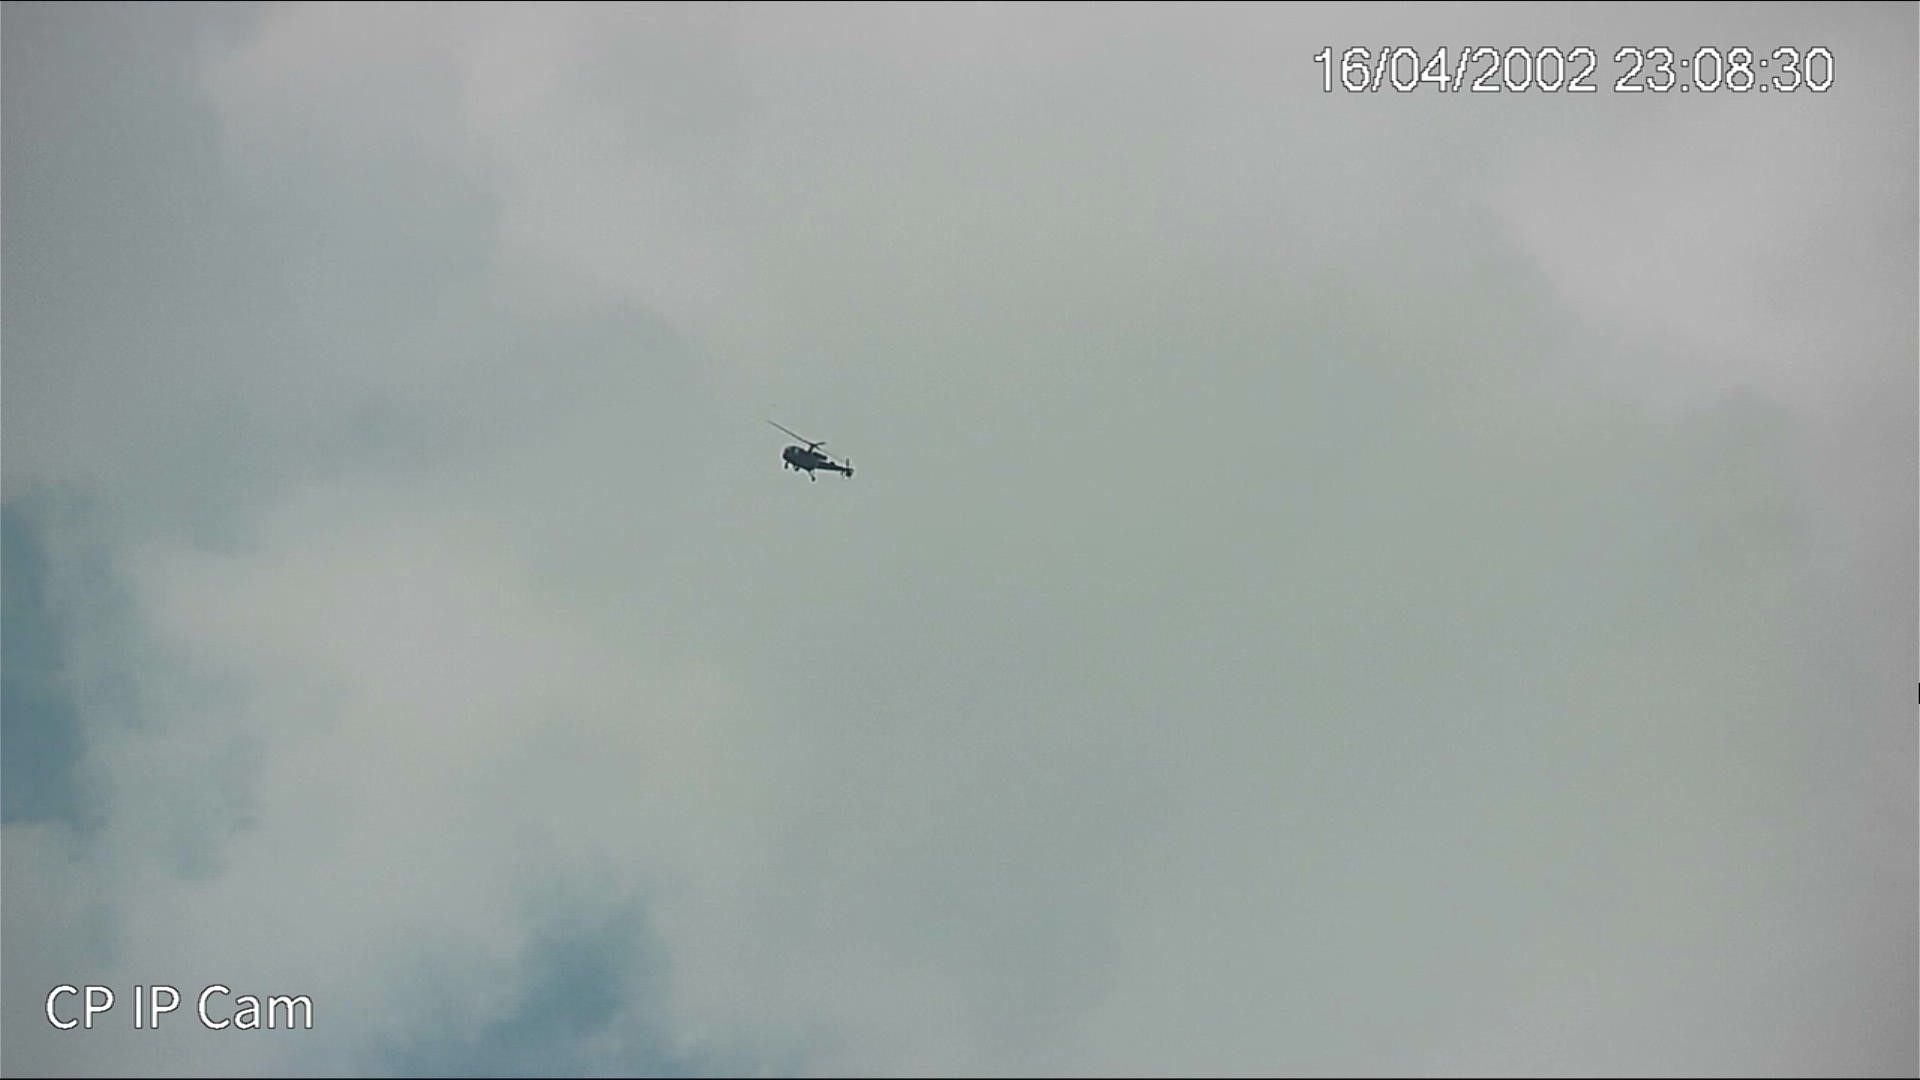SU_30: (767, 419, 858, 487)
